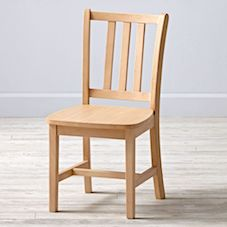chair: (38, 4, 170, 218)
